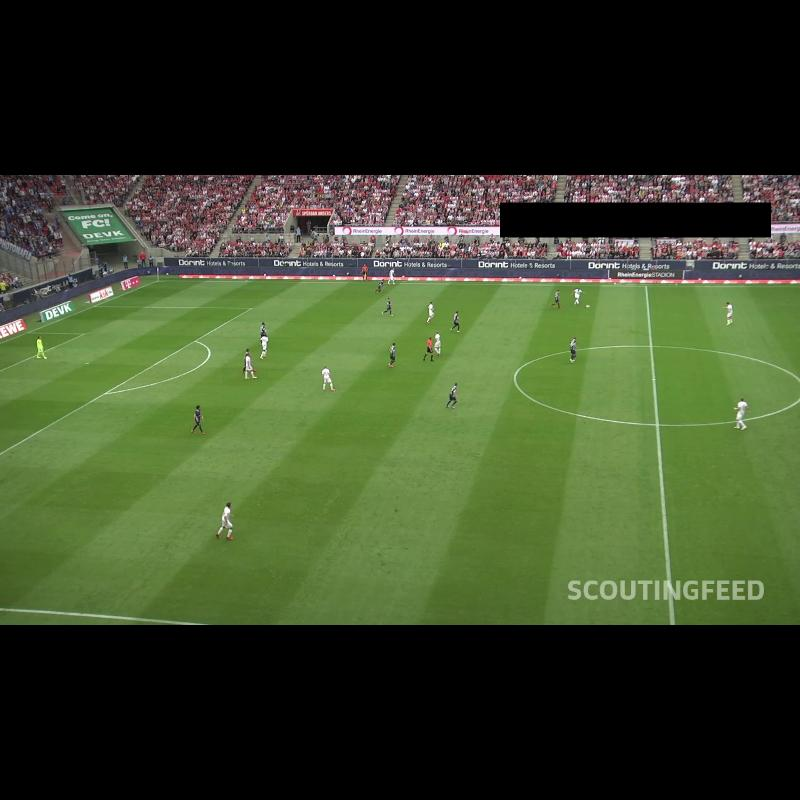cross_recipient_zone: (0, 306, 251, 454)
crossing_player_zone: (0, 463, 167, 610), (96, 280, 400, 310)
pitch: (0, 281, 800, 625)
